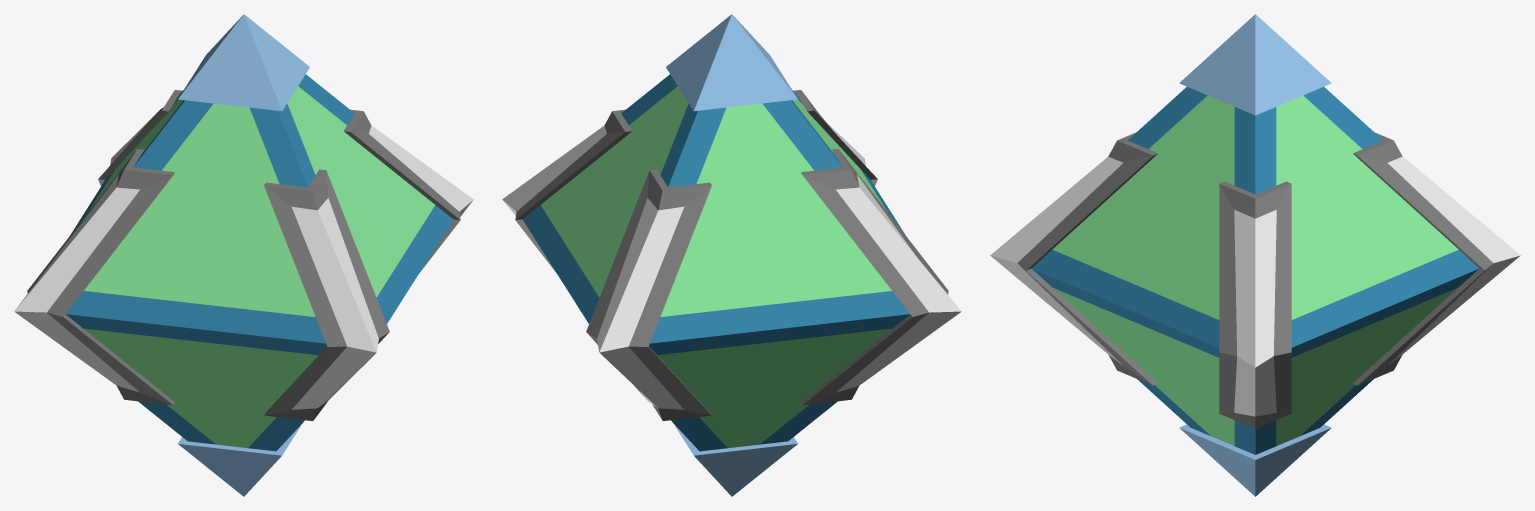
Rendered from Crystal2.fbx.
3 views of the same model, side by side, from view 1: azimuth 30°, elevation 25°; view 2: azimuth 150°, elevation 25°; view 3: azimuth 270°, elevation 25° (orthographic).
Visible parts, largest first — view 1: Cone; view 2: Cone; view 3: Cone.
Boxes of the visible parts, x1,y1,x2,y2 form: Cone: [14, 14, 473, 496]; Cone: [502, 14, 961, 496]; Cone: [990, 14, 1520, 496].
Bounding box in the file's own units: 2.08 × 2.09 × 2.08.
